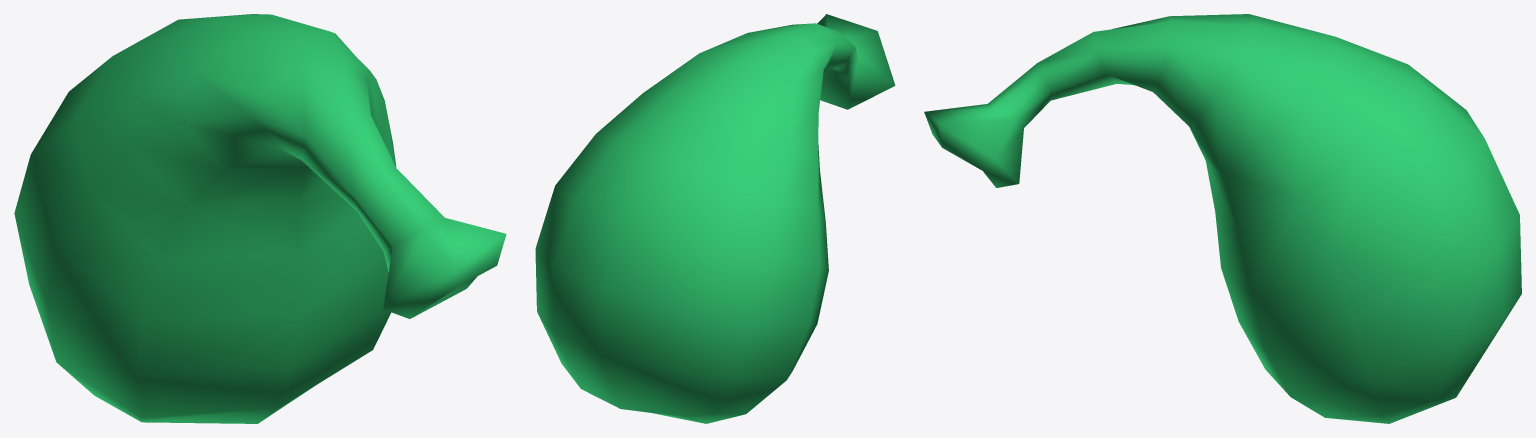
File: Thief_bag.fbx
3 views of the same model, side by side, from view 1: azimuth 30°, elevation 25°; view 2: azimuth 150°, elevation 25°; view 3: azimuth 270°, elevation 25° (orthographic). The views are drawn at different scales.
Parts seen in each view (by area): view 1: Thief_bag_01; view 2: Thief_bag_01; view 3: Thief_bag_01.
Boxes of the visible parts, bbox=[...] form: Thief_bag_01: bbox=[14, 14, 506, 423]; Thief_bag_01: bbox=[535, 14, 895, 423]; Thief_bag_01: bbox=[924, 14, 1521, 423].
Bounding box in the file's own units: 57.17 × 69.32 × 101.
